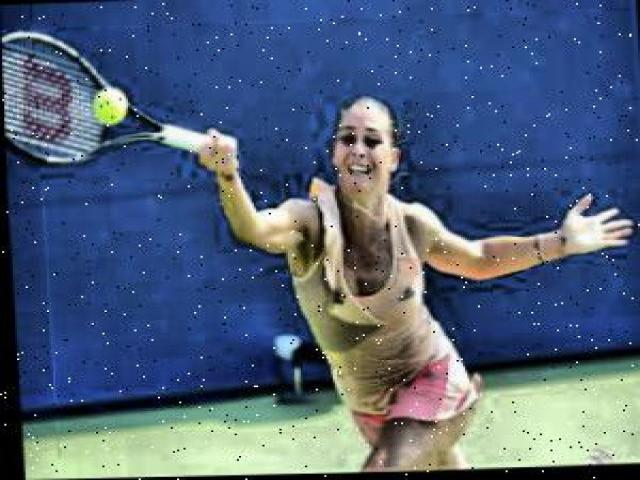tennis-ball: (90, 88, 124, 126)
